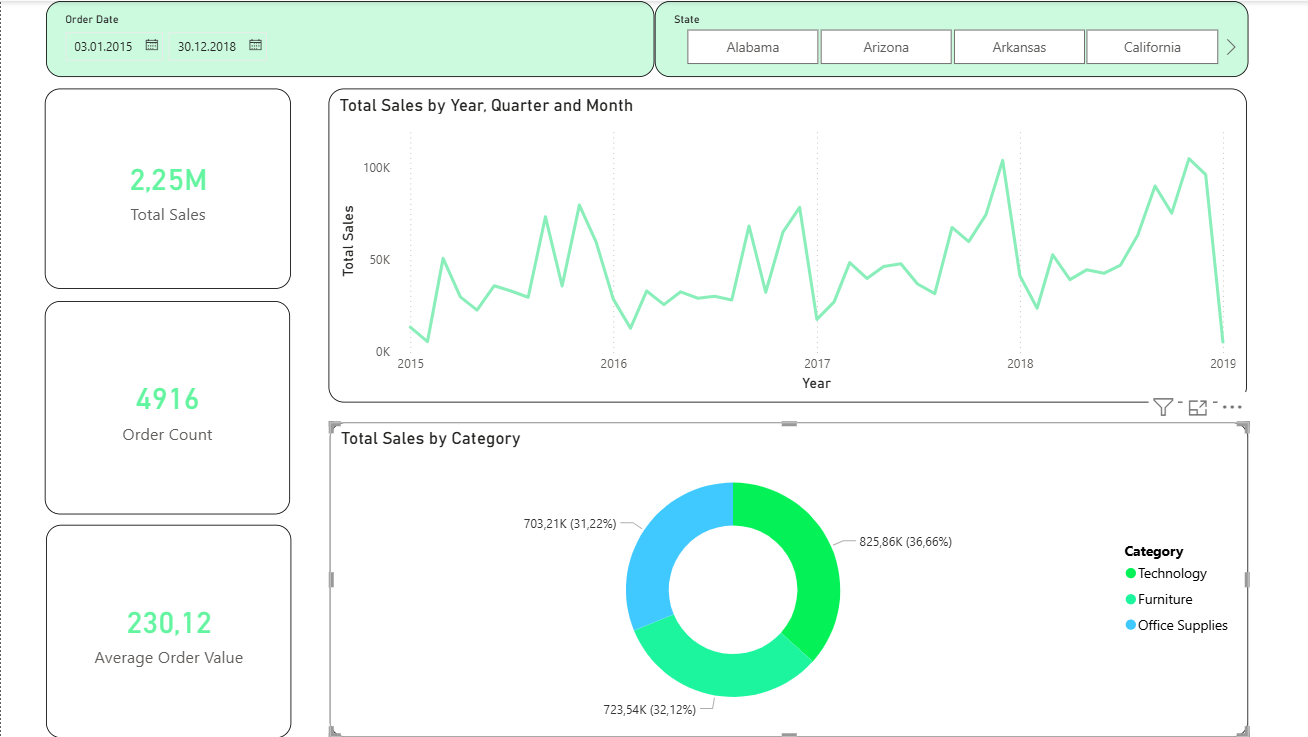

Layout of this report page (visuals, bound fields, positions):
{"tool":"powerbi","page":{"name":"Sales Information","canvas":[1280,720],"ordinal":0},"visuals":[{"type":"card","fields":{"Values":["superstore_cleaned.Total_Sales"]},"box":[42.8,85.6,240.9,195.7],"z":0},{"type":"card","fields":{"Values":["superstore_cleaned.Average Order Value"]},"box":[43.9,511.8,240.1,208.6],"z":1000},{"type":"lineChart","fields":{"Y":["superstore_cleaned.Total Sales"],"Category":["superstore_cleaned.Ship Date.Variation.Date Hierarchy.Year","superstore_cleaned.Ship Date.Variation.Date Hierarchy.Quarter","superstore_cleaned.Ship Date.Variation.Date Hierarchy.Month"]},"box":[320.4,85.6,898.8,306.9],"z":2000},{"type":"donutChart","fields":{"Y":["superstore_cleaned.Total Sales"],"Category":["superstore_cleaned.Category"]},"box":[321.6,412.1,898.8,308.2],"z":3000},{"type":"slicer","fields":{"Values":["superstore_cleaned.Order Date"]},"box":[44,0,595.5,74.6],"z":4000},{"type":"slicer","fields":{"Values":["superstore_cleaned.State"]},"box":[639.5,0,580.8,74.6],"z":5000},{"type":"card","fields":{"Values":["superstore_cleaned.Order Count"]},"box":[42.8,293.5,239.7,209.1],"z":6000}]}

Visuals, with their boxes in screenshot pixels (x1, y1, x2, y2), scaled from the page's 1280x720 canvas onto the 1308x737 screenshot:
card - superstore_cleaned.Total_Sales: BBox(44, 88, 290, 288)
card - superstore_cleaned.Average Order Value: BBox(45, 524, 290, 736)
lineChart - superstore_cleaned.Total Sales x superstore_cleaned.Ship Date.Variation.Date Hierarchy.Year: BBox(327, 88, 1246, 402)
donutChart - superstore_cleaned.Total Sales x superstore_cleaned.Category: BBox(329, 422, 1247, 736)
slicer - superstore_cleaned.Order Date: BBox(45, 0, 653, 76)
slicer - superstore_cleaned.State: BBox(653, 0, 1247, 76)
card - superstore_cleaned.Order Count: BBox(44, 300, 289, 514)
